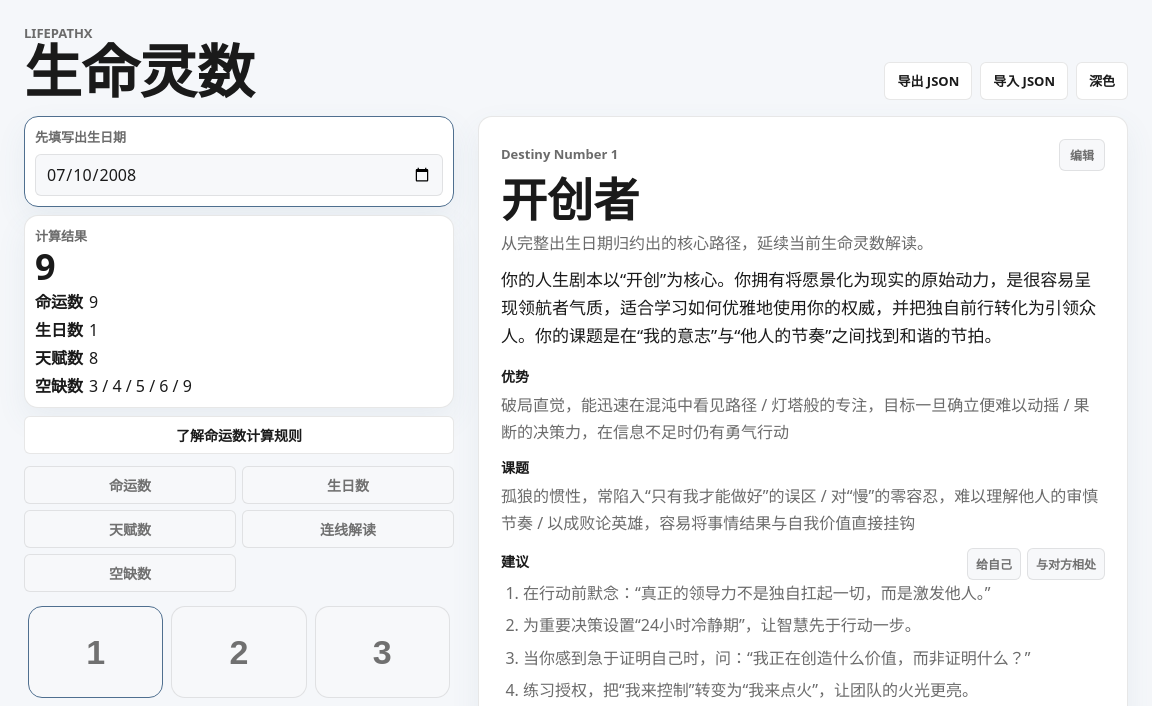
Test case: MainPage › 规则弹层随解读类型切换内容
The width and height of the screenshot is (1152, 706).
Type "1989-08-18" into the date field labelled "先填写出生日期" at (239, 175), box [35,154,443,196]
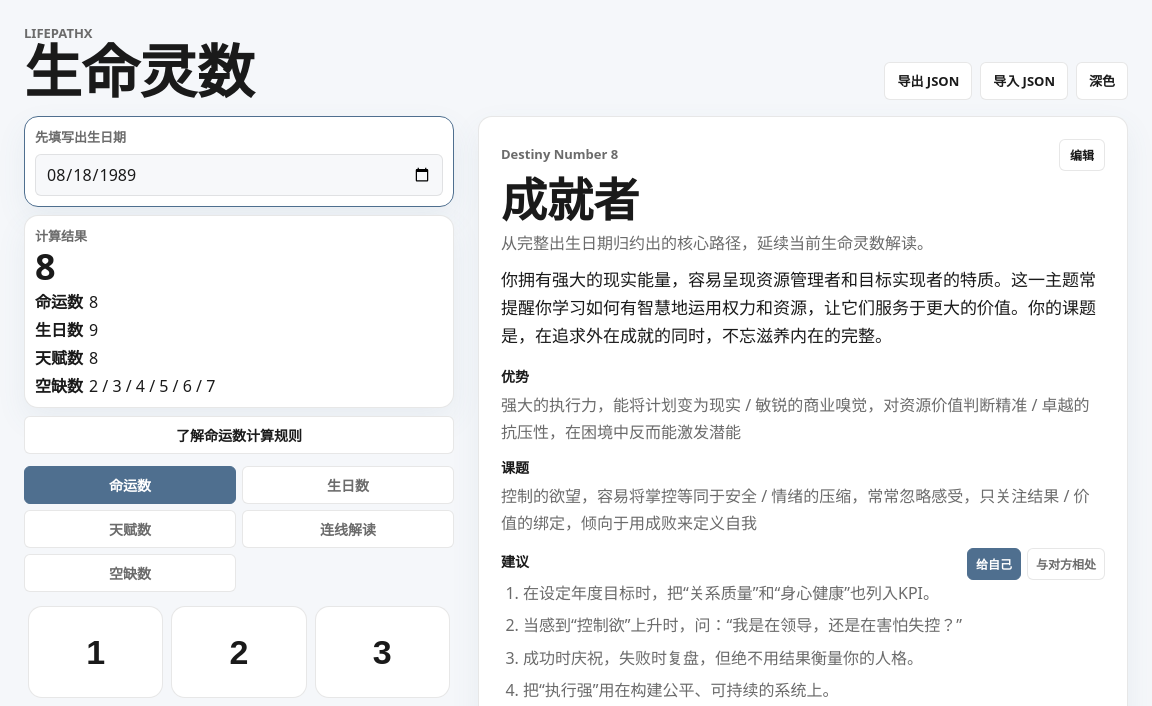
Click the button with class "tab" showing "空缺数" at (130, 573), box [24,554,236,592]
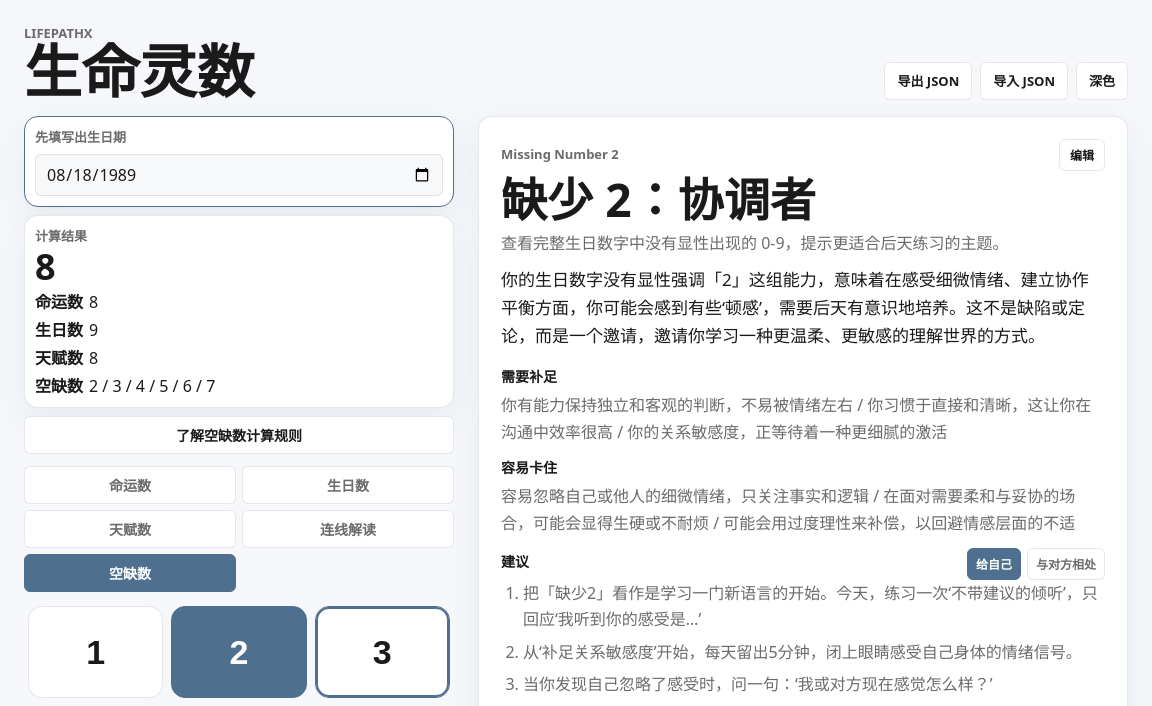
Click the button with class "rules-toggle" at (239, 435), box [24,416,454,454]
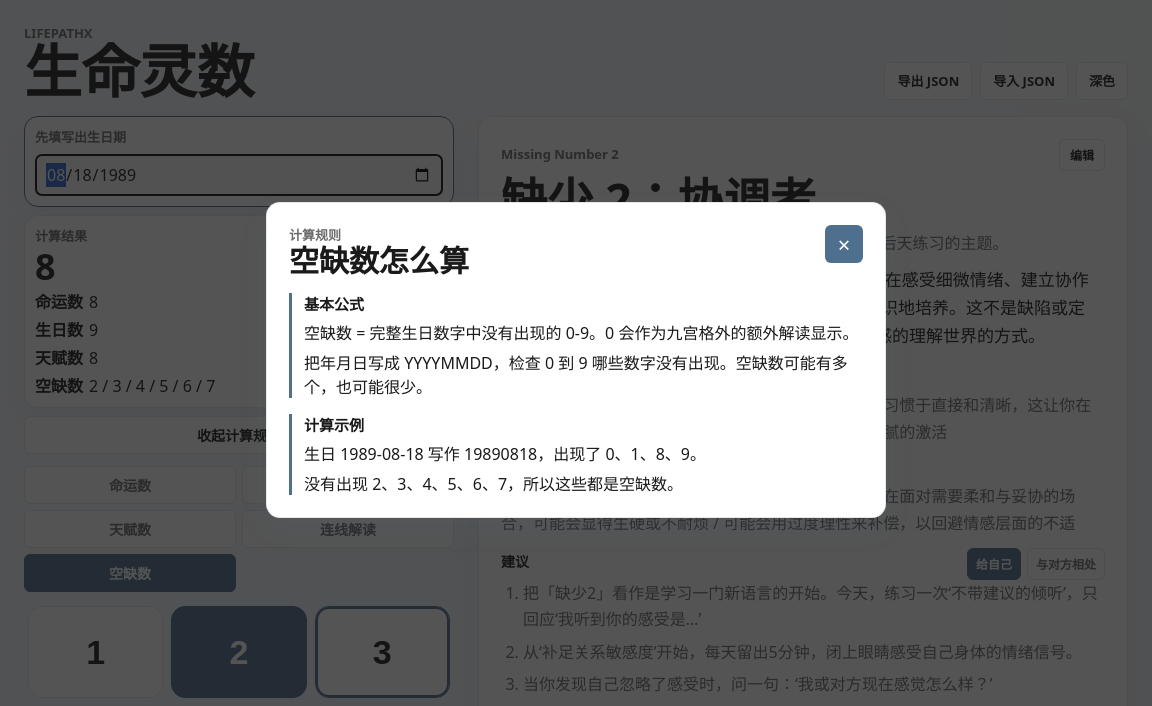
expect the text "空缺数怎么算" is shown: met, box [289,244,469,277]
expect the text "完整生日数字中没有出现的 0-9" is shown: met, box [304,322,858,344]
